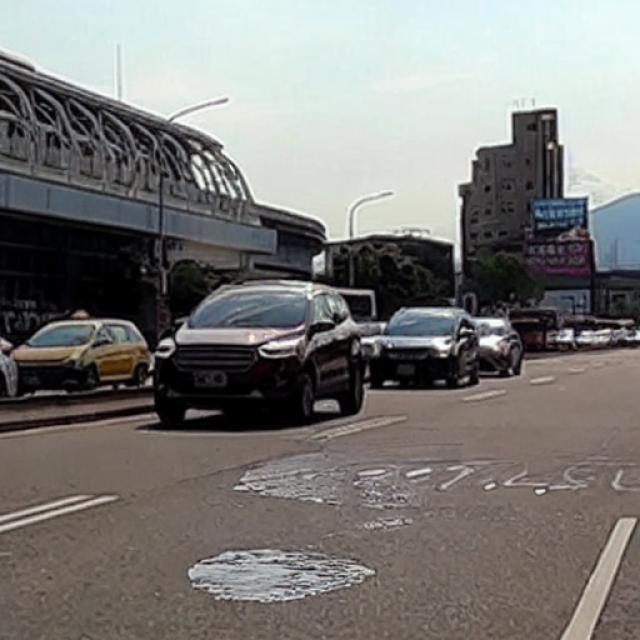puddle: (189, 549, 379, 605)
